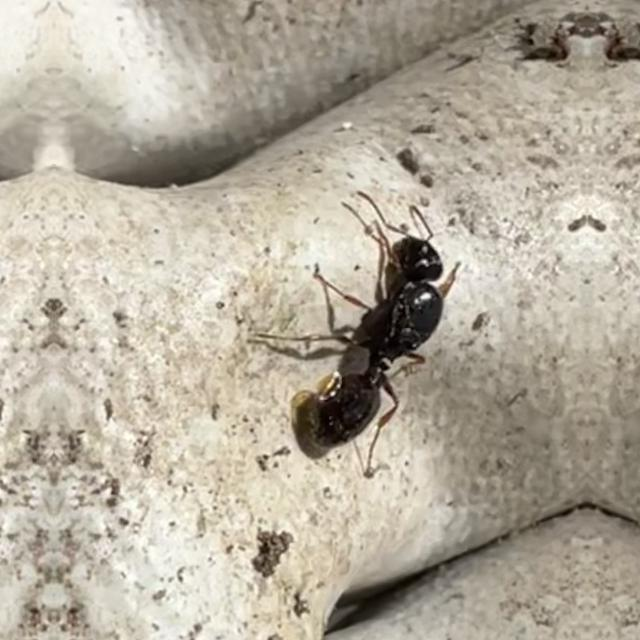Tetramorium: (257, 178, 471, 458)
